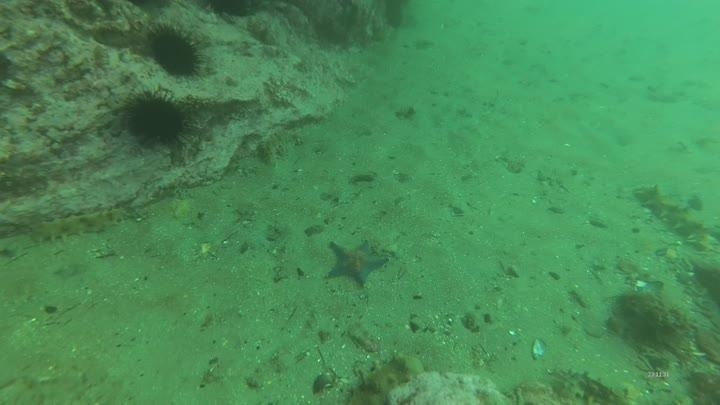echinus: (119, 87, 193, 151), (143, 21, 207, 81)
holothurian: (633, 181, 718, 251), (340, 350, 425, 403), (28, 203, 132, 246)
starfish: (323, 235, 390, 289)
